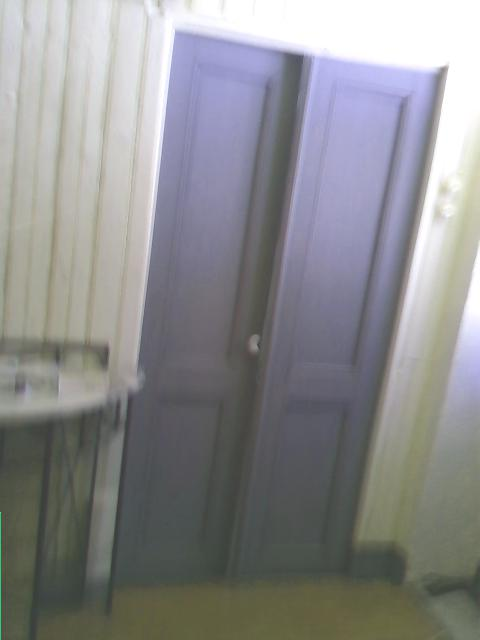closed_door: (106, 17, 449, 579)
